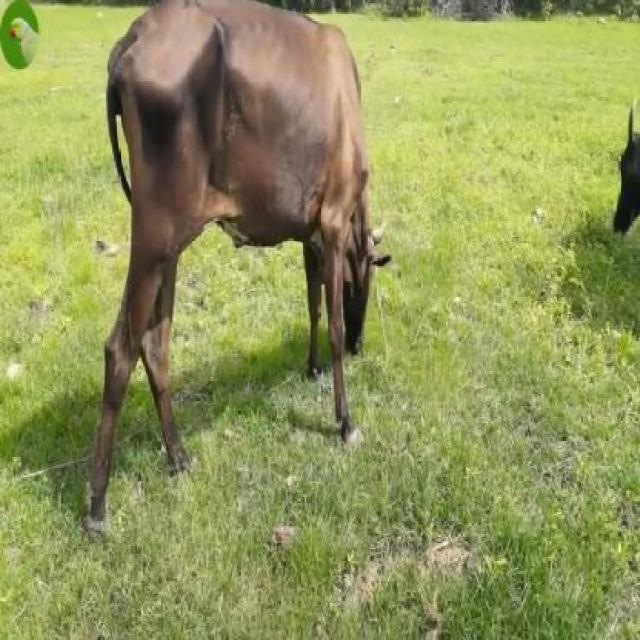Cow: (85, 0, 392, 525)
